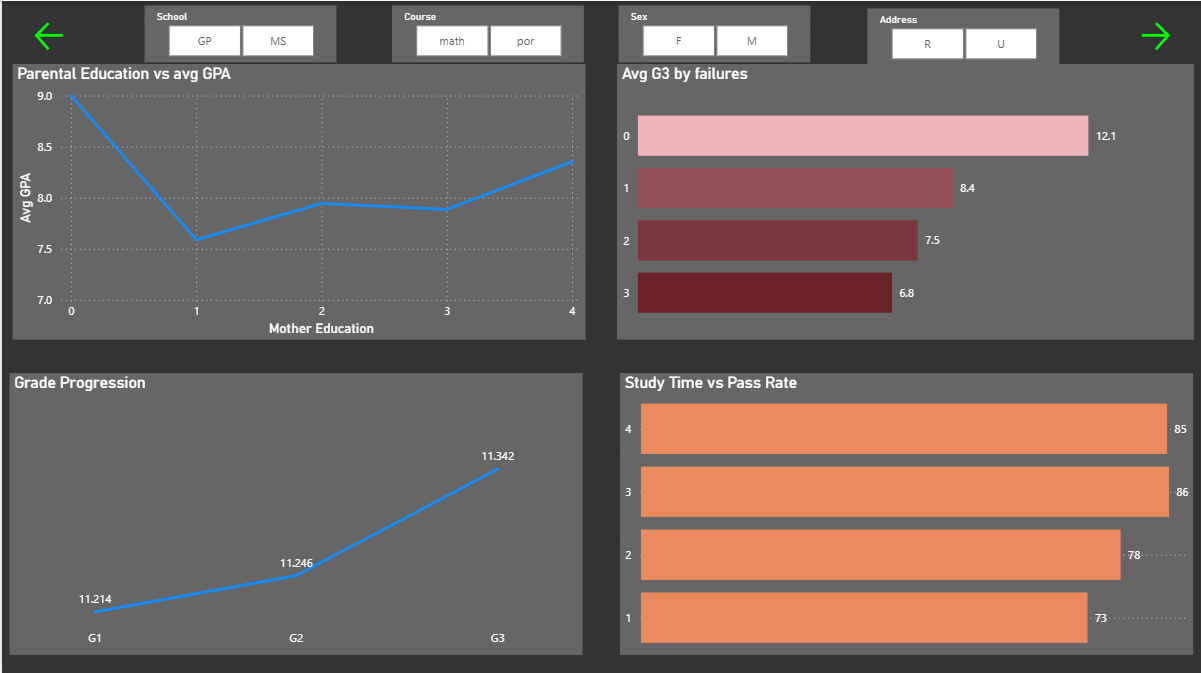

The page's visual inventory and layout, read from the dashboard file:
{"tool":"powerbi","page":{"name":"Factor Analysis","canvas":[1280,720],"ordinal":2},"visuals":[{"type":"lineChart","title":"Parental Education vs avg GPA","fields":{"Category":["dim_student.medu"],"Y":["fact_grades.Avg GPA"]},"box":[10.4,66.8,611.5,294.3],"z":0},{"type":"clusteredBarChart","fields":{"Category":["fact_grades.failures"],"Y":["fact_grades.Avg G3"]},"box":[655.3,66.8,615.7,294.3],"z":1000},{"type":"lineChart","title":"Grade Progression ","fields":{"Category":["Period Table.Period"],"Y":["fact_grades.Avg Grade by Period"]},"box":[8.3,396.5,611.5,300.5],"z":2000},{"type":"clusteredBarChart","title":"Study Time vs Pass Rate","fields":{"Category":["fact_grades.studytime"],"Y":["fact_grades.Pass Rate %"]},"box":[659.5,396.5,611.5,300.5],"z":3000},{"type":"actionButton","box":[0,17.6,100.8,40],"z":4000},{"type":"actionButton","box":[1179.2,17.6,100.8,40],"z":5000},{"type":"slicer","fields":{"Values":["dim_student.school"]},"box":[152,4.8,204.8,60.8],"z":6000},{"type":"slicer","fields":{"Values":["fact_grades.course"]},"box":[416,4.8,204.8,60.8],"z":7000},{"type":"slicer","fields":{"Values":["dim_student.sex"]},"box":[657.6,4.8,204.8,60.8],"z":8000},{"type":"slicer","fields":{"Values":["dim_student.address"]},"box":[923.2,8,204.8,60.8],"z":9000}]}

Visuals, with their boxes in screenshot pixels (x1, y1, x2, y2), scaled from the page's 1280x720 canvas onto the 1201x673 screenshot:
"Parental Education vs avg GPA" lineChart: (10, 62, 584, 338)
clusteredBarChart - fact_grades.failures x fact_grades.Avg G3: (615, 62, 1193, 338)
"Grade Progression " lineChart: (8, 371, 582, 652)
"Study Time vs Pass Rate" clusteredBarChart: (619, 371, 1193, 652)
actionButton: (0, 16, 95, 54)
actionButton: (1106, 16, 1200, 54)
slicer - dim_student.school: (143, 4, 335, 61)
slicer - fact_grades.course: (390, 4, 582, 61)
slicer - dim_student.sex: (617, 4, 809, 61)
slicer - dim_student.address: (866, 7, 1058, 64)
